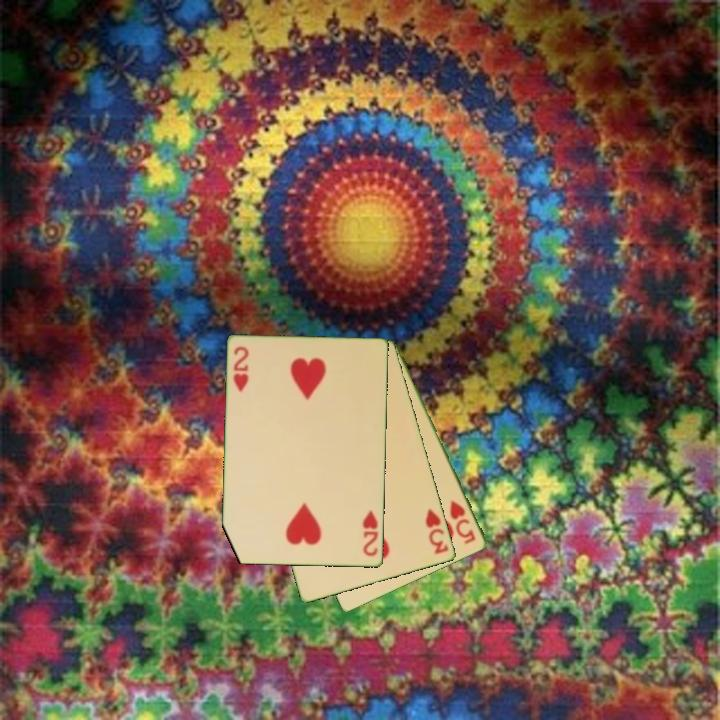2h: (359, 507, 381, 559), (230, 344, 252, 395)
3h: (422, 505, 452, 557)
5h: (447, 497, 479, 547)
